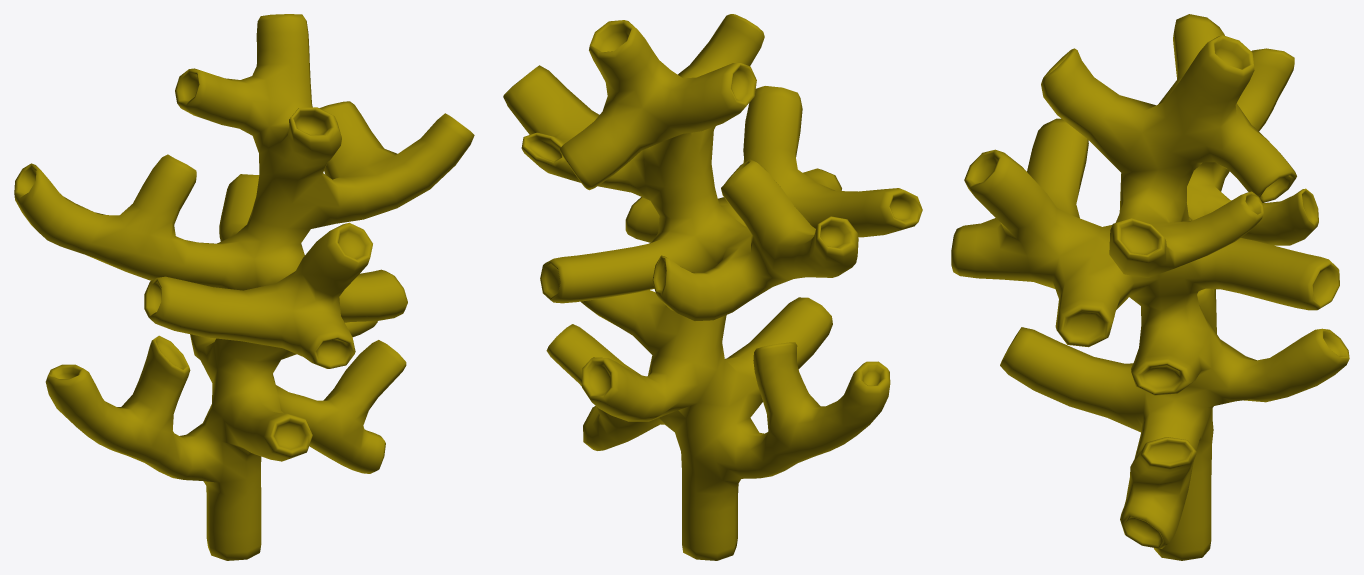
File: coralYellow.fbx
The picture shows the model from 3 angles, left to right: view 1: azimuth 30°, elevation 25°; view 2: azimuth 150°, elevation 25°; view 3: azimuth 270°, elevation 25°; orthographic projection. The views are drawn at different scales.
Visible parts, largest first — view 1: Korall2_LOD00; view 2: Korall2_LOD00; view 3: Korall2_LOD00.
Part boxes in pixels (x1,y1,x2,y2): Korall2_LOD00: (14,14,474,560); Korall2_LOD00: (503,14,922,560); Korall2_LOD00: (951,14,1349,560).
Size of what is drawn, in the model's own units: 51.37 by 63.61 by 42.04.
